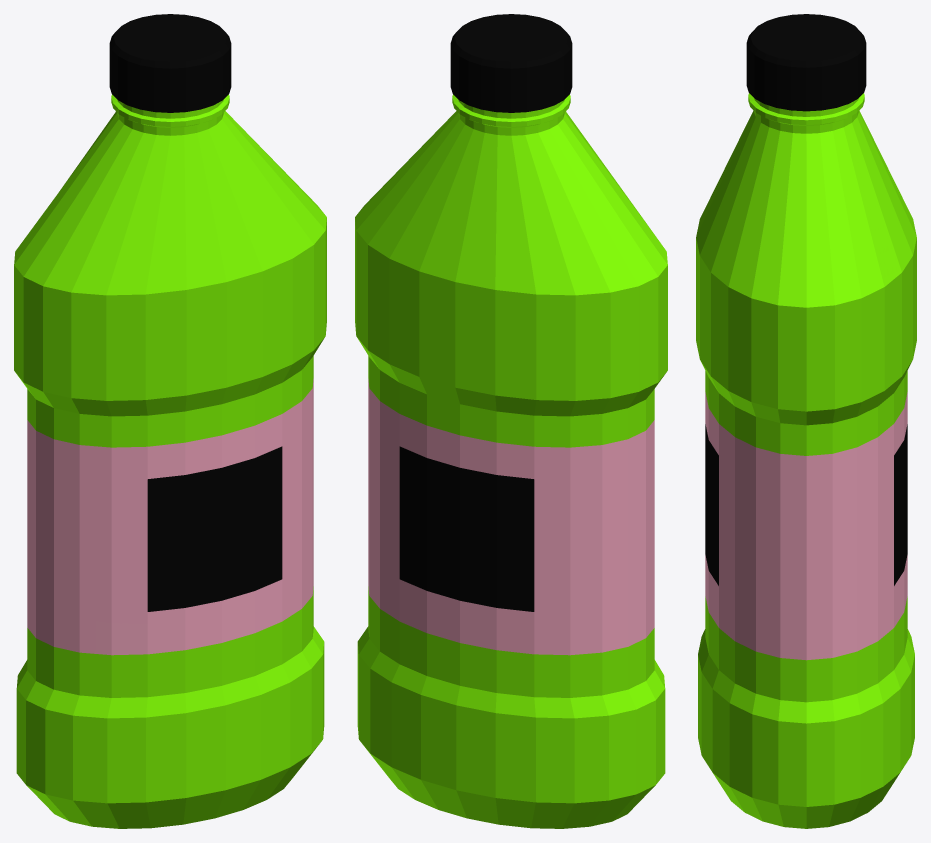
Rendered from jamupullo2.fbx.
The picture shows the model from 3 angles, left to right: view 1: azimuth 30°, elevation 25°; view 2: azimuth 150°, elevation 25°; view 3: azimuth 270°, elevation 25°; orthographic projection.
Parts seen in each view (by area): view 1: Cylinder; view 2: Cylinder; view 3: Cylinder.
Boxes of the visible parts, box(x1,y1,x2,y2) form: Cylinder: box(14, 14, 326, 828); Cylinder: box(355, 14, 667, 828); Cylinder: box(696, 14, 916, 828).
Bounding box in the file's own units: 2.18 × 1.45 × 5.31.
